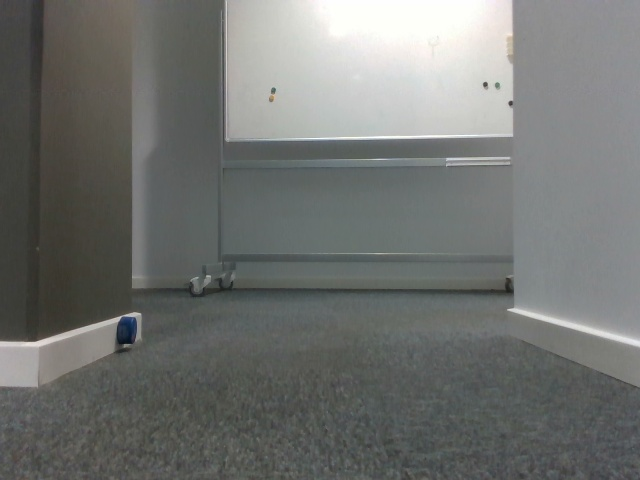alfa: (113, 314, 140, 348)
